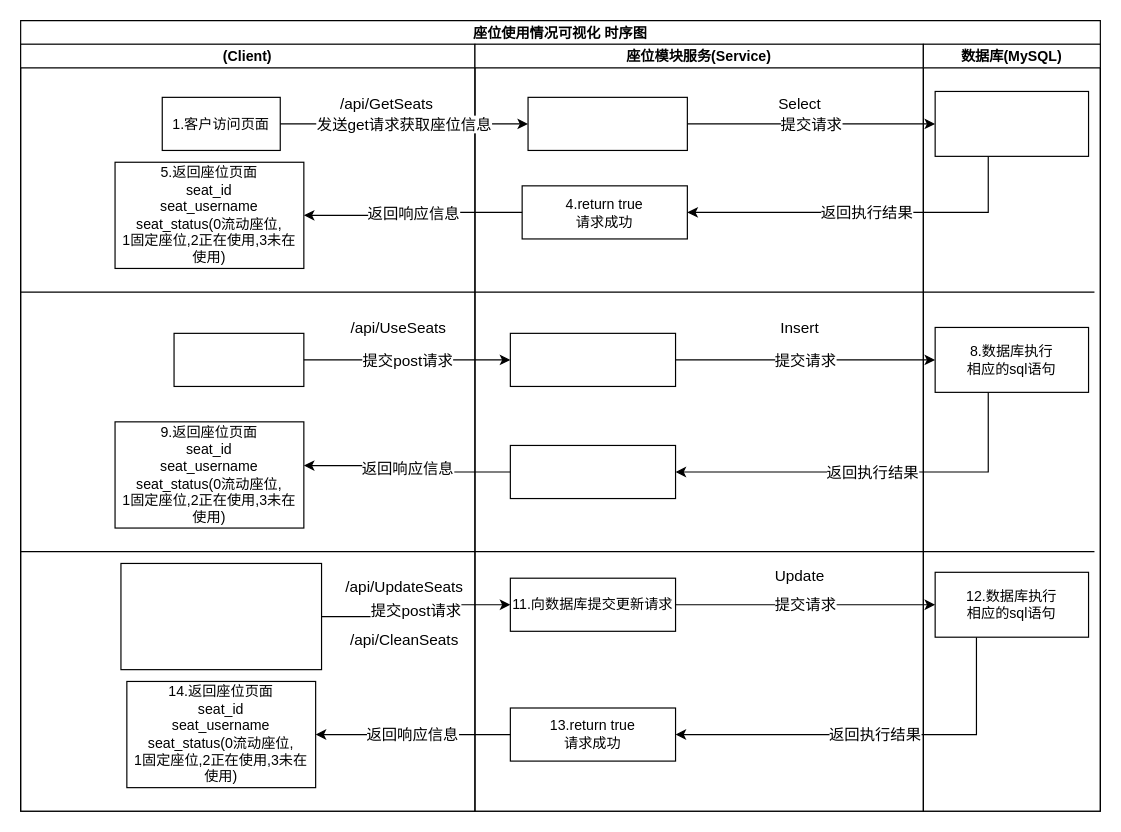
This 1121x832 diagram has some shape labels left out. The centre of each missing label's shape, as x and y in pixels:
10.接收到打卡机签到（签退） 座位自动被使用（未使用） seat_username seat_id seat_status: the point at 221,616
2.向数据库提交查询请求: the point at 607,123
3.数据库执行 相应的sql语句: the point at 1011,123
6.申请使用空座位 seat_username seat_id: the point at 238,359
7.向数据库提交写入请求: the point at 592,359
8.return true 请求成功: the point at 592,471
